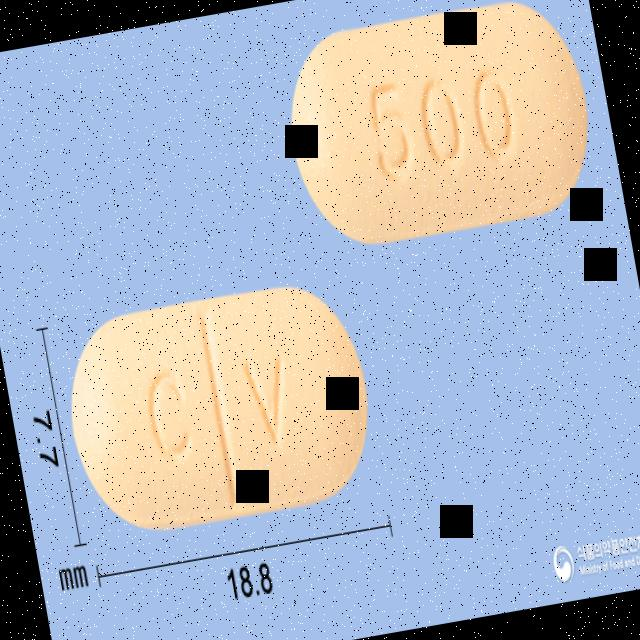Cravit: (54, 272, 383, 542), (274, 0, 604, 254)
